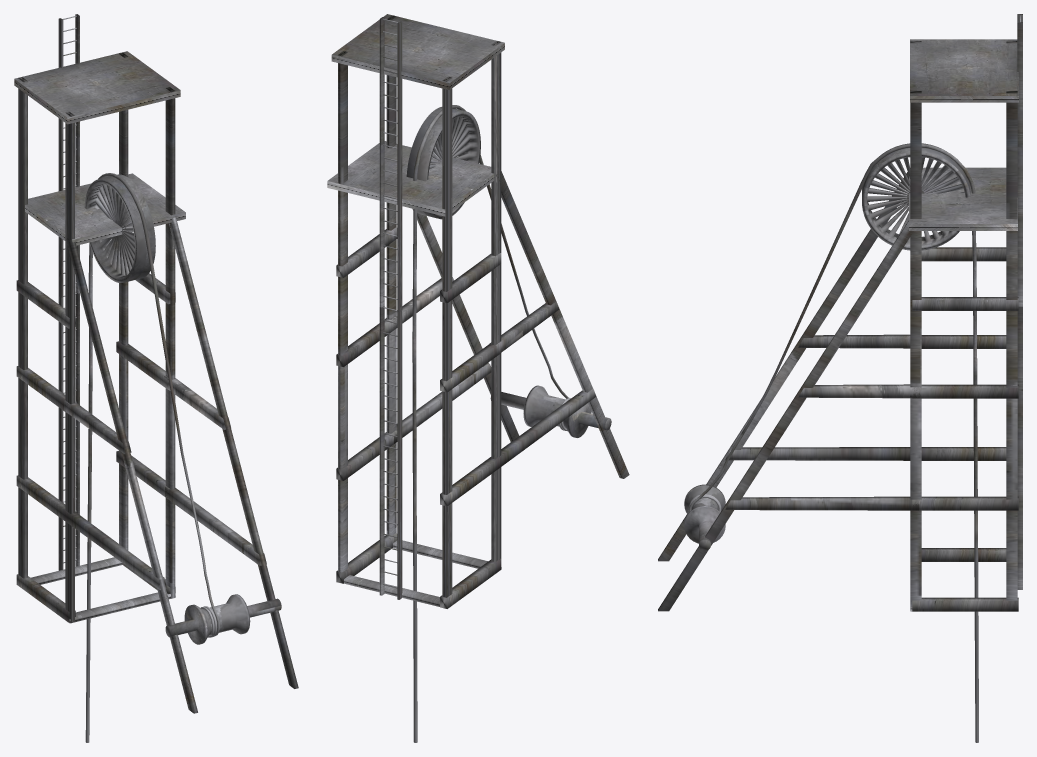
File: Mine_Shaft_Crane.fbx
The picture shows the model from 3 angles, left to right: view 1: azimuth 30°, elevation 25°; view 2: azimuth 150°, elevation 25°; view 3: azimuth 270°, elevation 25°; orthographic projection. The views are drawn at different scales.
Visible parts, largest first — view 1: Cylinder.047; view 2: Cylinder.047; view 3: Cylinder.047.
Boxes of the visible parts, box(x1,y1,x2,y2) form: Cylinder.047: box(14, 14, 298, 742); Cylinder.047: box(327, 14, 629, 742); Cylinder.047: box(658, 14, 1022, 742).
Bounding box in the file's own units: 511 × 2933 × 1338.
Materials: 1 (1 with a texture image).
